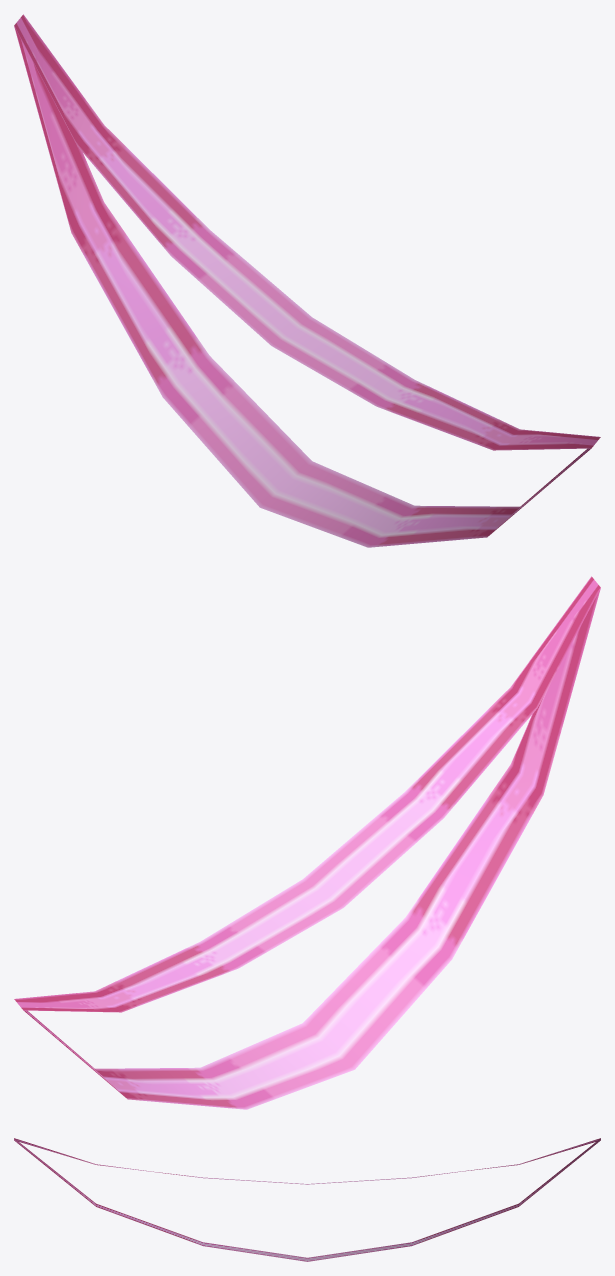
3 renders of one model, top to bottom at view 1: azimuth 30°, elevation 25°; view 2: azimuth 150°, elevation 25°; view 3: azimuth 270°, elevation 25°, orthographic. The views are drawn at different scales.
Parts seen in each view (by area): view 1: a110; view 2: a110; view 3: a110.
Boxes of the visible parts, bbox=[...] form: a110: bbox=[14, 14, 600, 547]; a110: bbox=[14, 576, 600, 1109]; a110: bbox=[14, 1138, 600, 1261].
Bounding box in the file's own units: 14.7 × 72.36 × 281.
